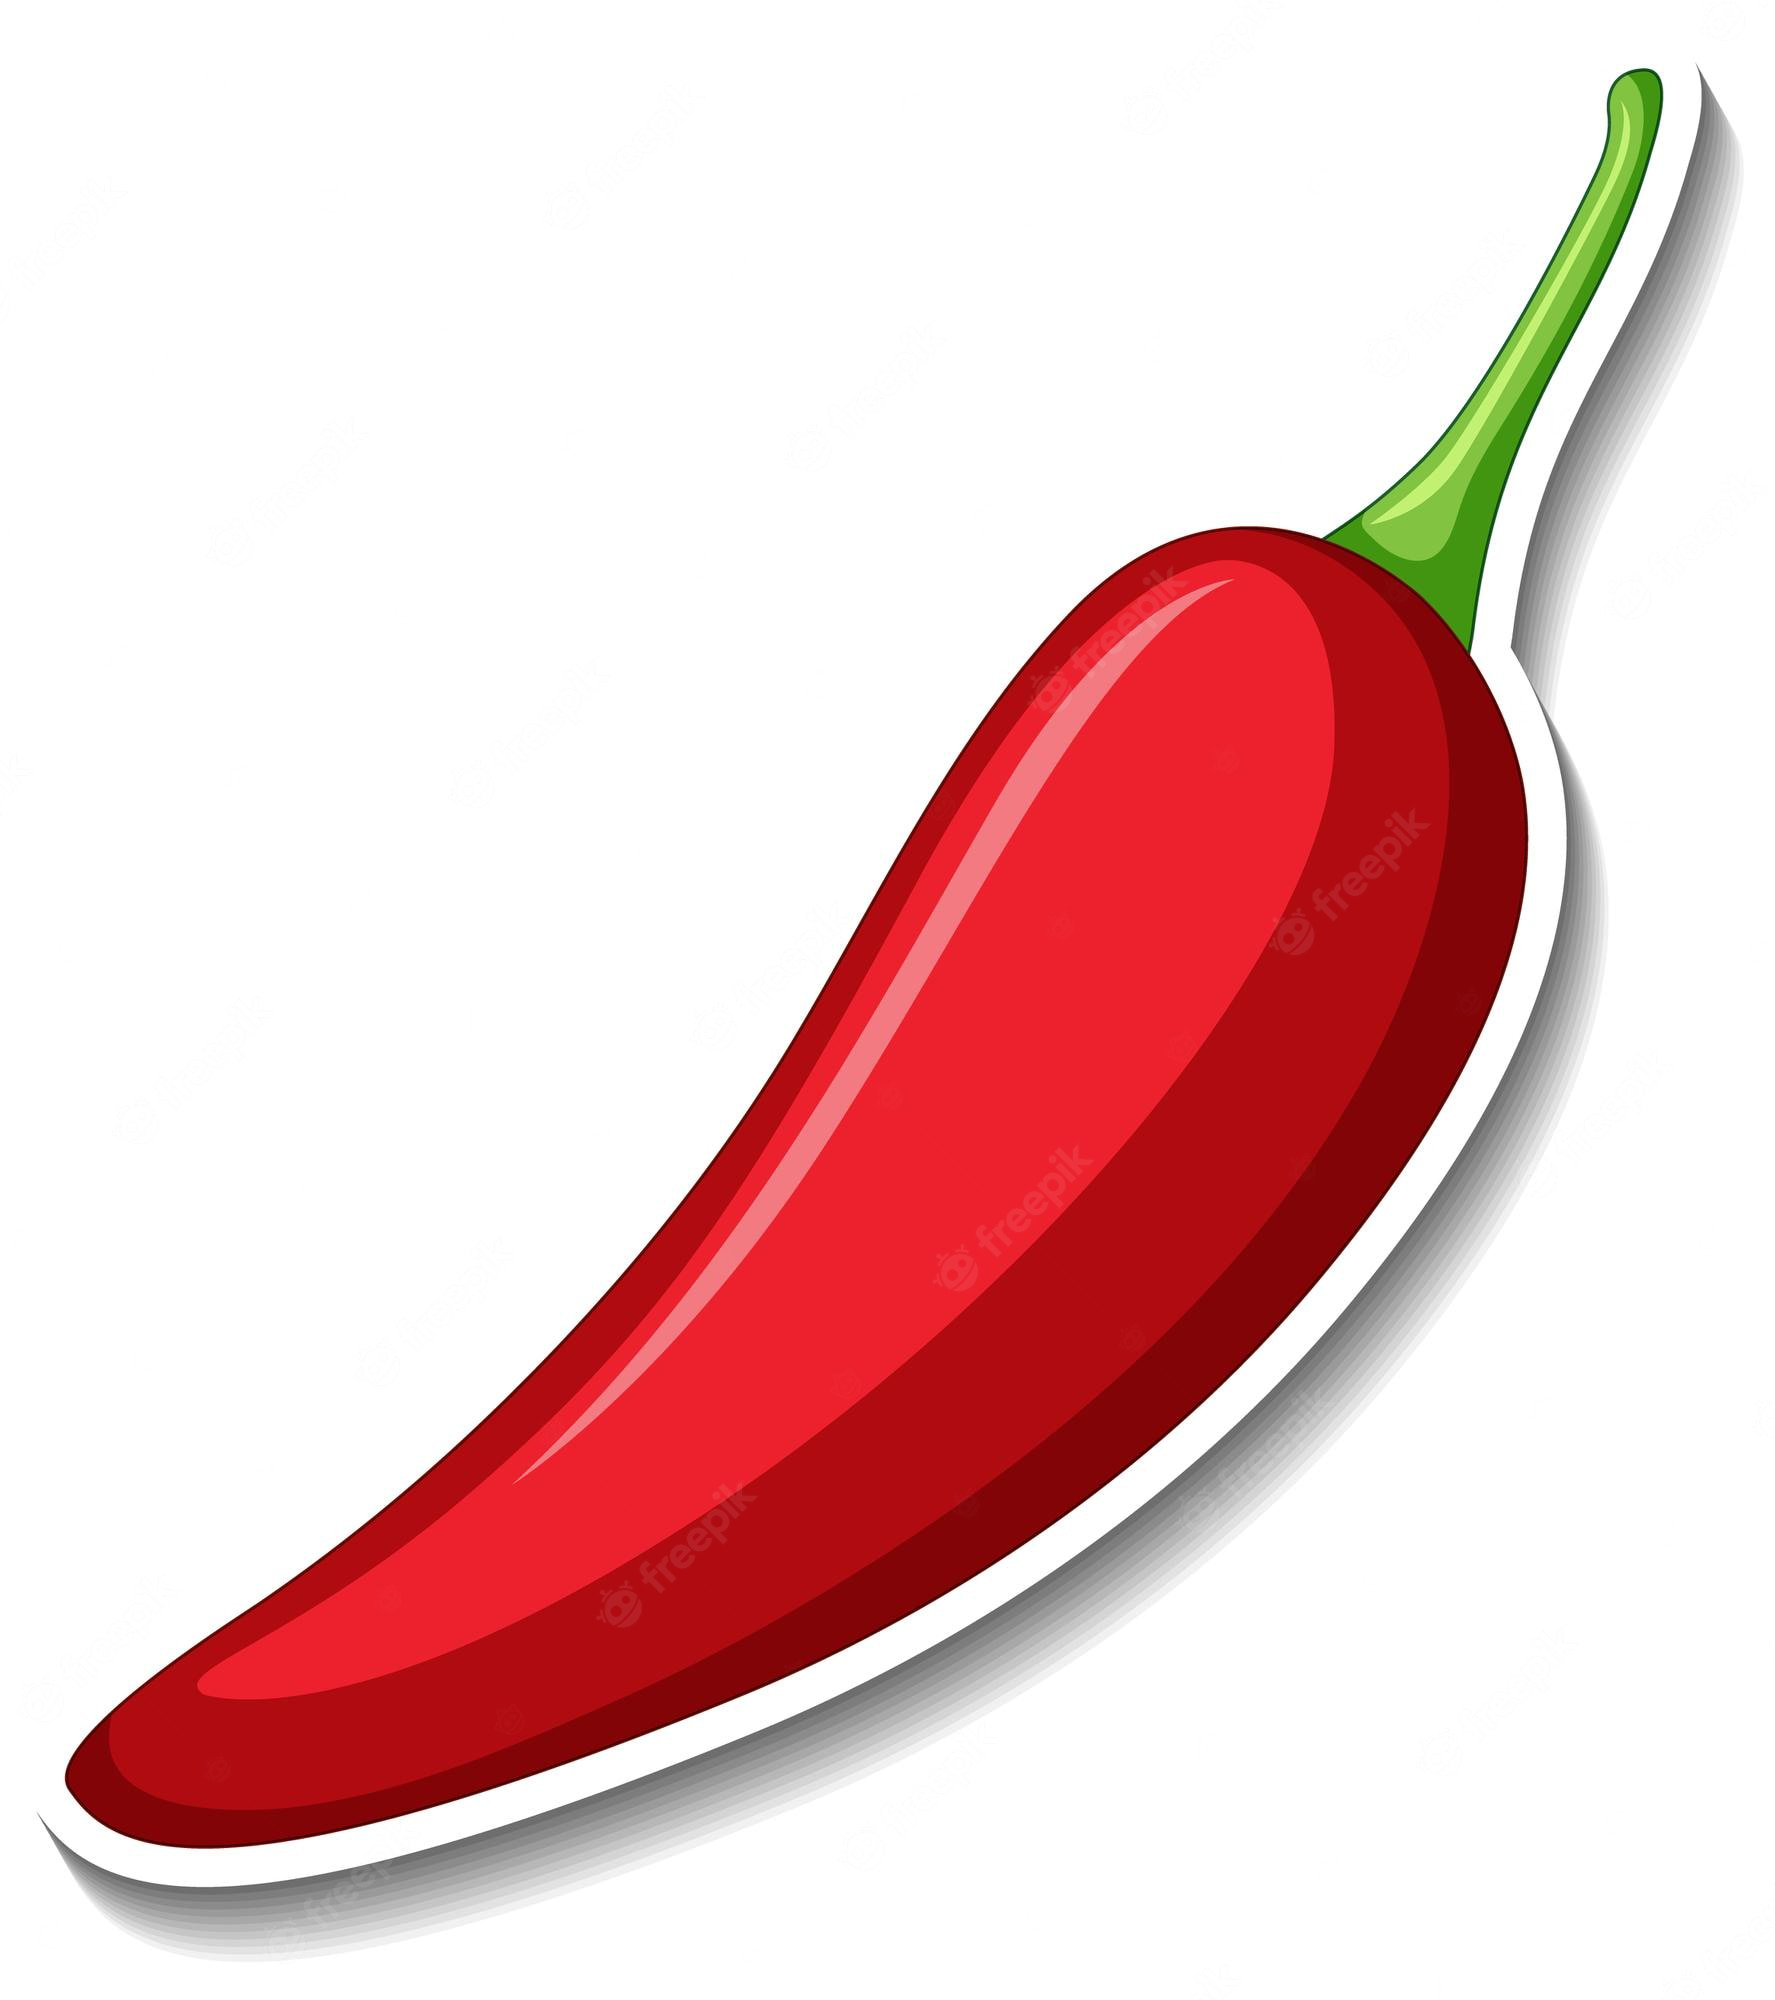Cabai: (103, 26, 1724, 2000)
